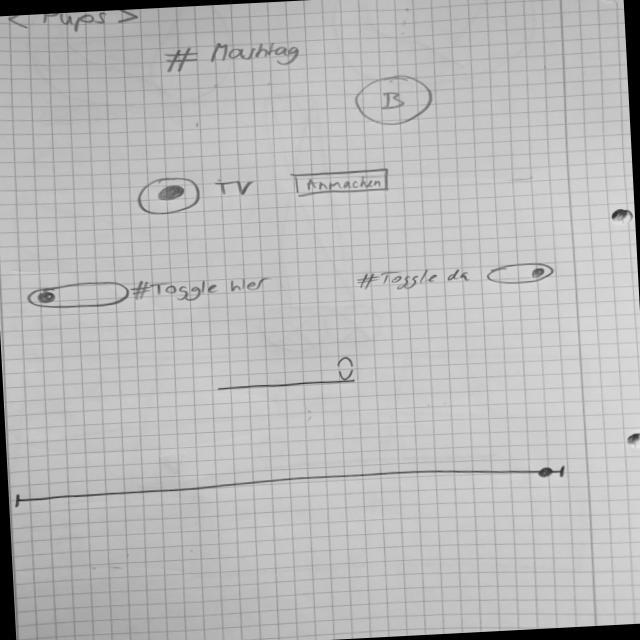button: (293, 166, 394, 199)
icon-button: (355, 74, 437, 130)
label: (160, 37, 304, 75), (130, 274, 275, 307), (358, 264, 476, 296)
link: (7, 10, 145, 38)
number-input: (212, 354, 360, 396)
radio: (135, 173, 259, 219)
slider: (10, 460, 572, 512)
toggle: (26, 280, 132, 312), (485, 262, 559, 289)
